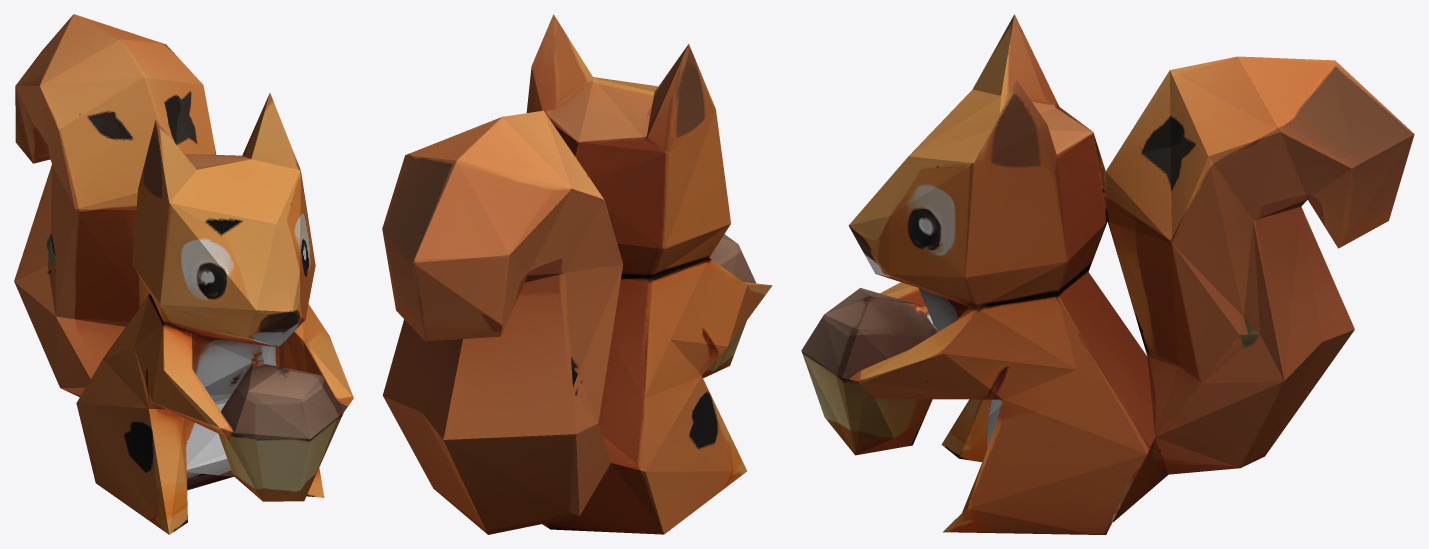
The picture shows the model from 3 angles, left to right: view 1: azimuth 30°, elevation 25°; view 2: azimuth 150°, elevation 25°; view 3: azimuth 270°, elevation 25°; orthographic projection. The views are drawn at different scales.
Parts seen in each view (by area): view 1: Figure; view 2: Figure; view 3: Figure.
Boxes of the visible parts, left/top/right/bottom form: Figure: left=14, top=14, right=353, bottom=534; Figure: left=382, top=14, right=772, bottom=534; Figure: left=801, top=14, right=1414, bottom=534.
Bounding box in the file's own units: 0.1869 × 0.4148 × 0.521.
Materials: 1 (1 with a texture image).
